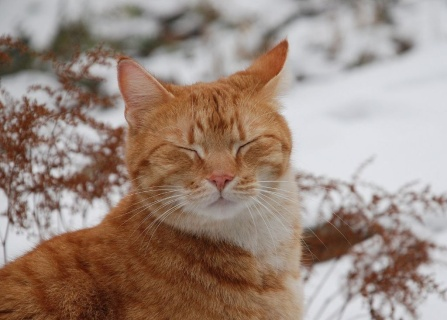Cat: (0, 35, 356, 319)
